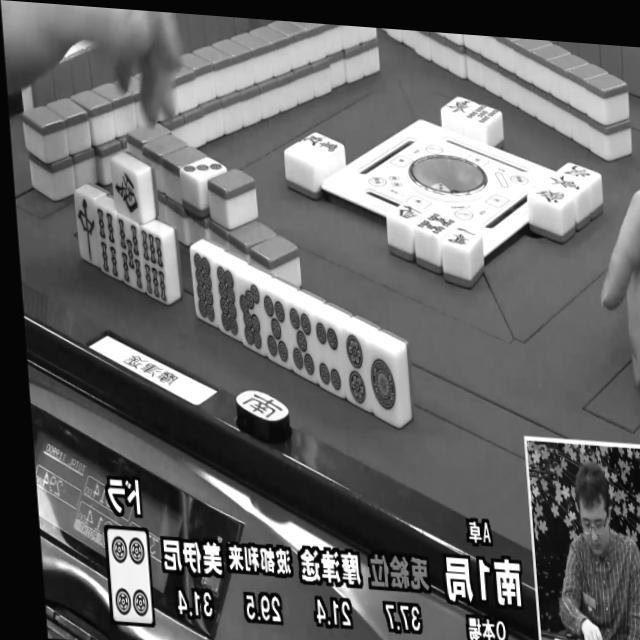1D: (363, 345, 404, 425)
2D: (337, 331, 377, 414)
3B: (74, 192, 100, 267)
3D: (181, 153, 226, 182)
4B: (92, 206, 121, 283)
4D: (104, 529, 154, 626), (311, 317, 349, 399)
5B: (114, 217, 146, 295)
5D: (258, 291, 295, 371), (284, 305, 321, 384)
6B: (138, 227, 173, 307)
7D: (234, 277, 270, 355)
8D: (211, 263, 244, 340), (189, 251, 221, 329)
SW: (110, 163, 142, 222)
